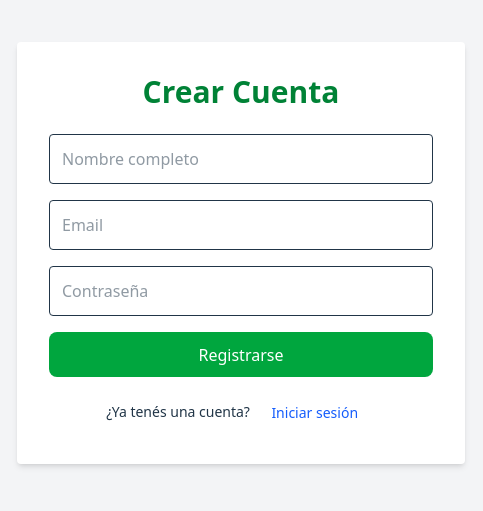
RegisterPage › muestra mensaje de éxito si el registro es exitoso
In the field with placeholder "Nombre completo": (241, 159) [49,134,433,184], type "Matías"
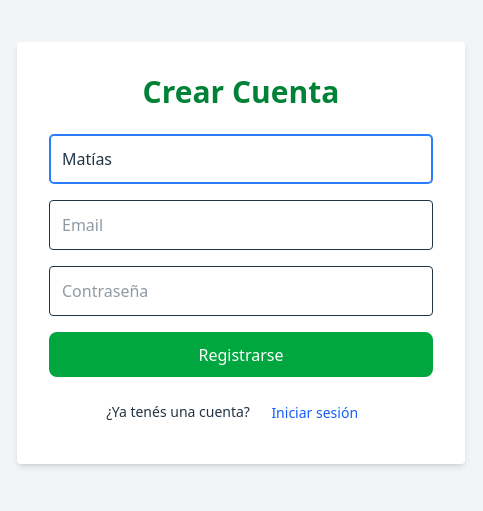
In the field with placeholder "Email": (241, 225) [49,200,433,250], type "mati@example.com"
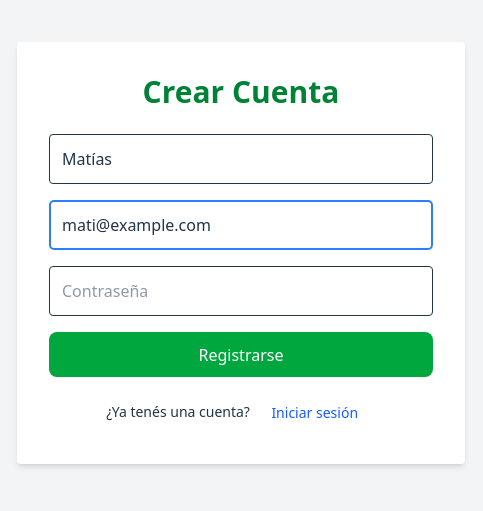
In the password field with placeholder "Contraseña": (241, 291) [49,266,433,316], type "securepass"
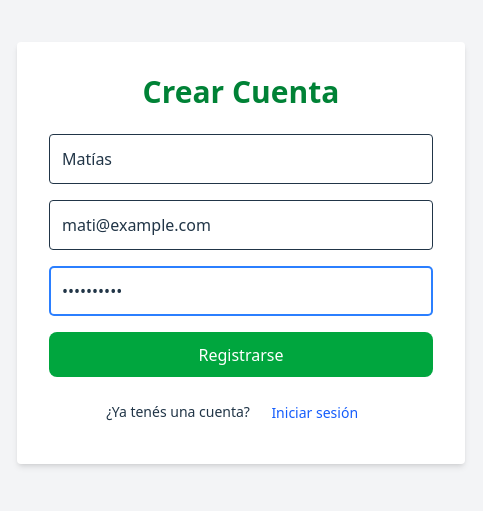
Click the button "Registrarse": (241, 355) [49,332,433,377]
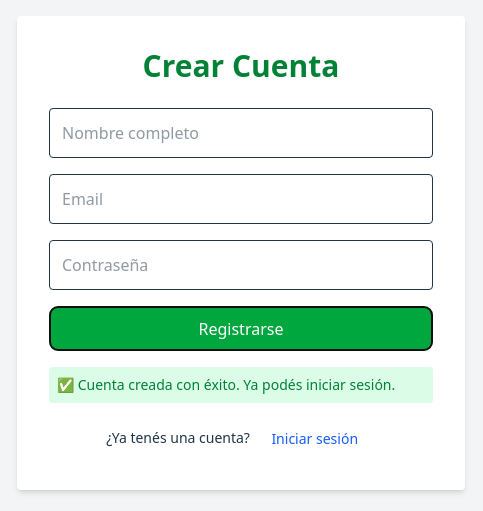
Check: the text "✅ Cuenta creada con éxito. Ya podés iniciar sesión." is shown, box [49,367,433,403]
